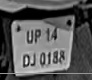0: (39, 52, 45, 67)
1: (45, 27, 50, 43), (46, 51, 51, 67)
4: (50, 26, 58, 41)
8: (59, 50, 65, 65), (53, 50, 58, 65)
D: (21, 54, 30, 68)
J: (28, 53, 38, 67)
P: (34, 28, 41, 45)
U: (27, 30, 34, 44)
